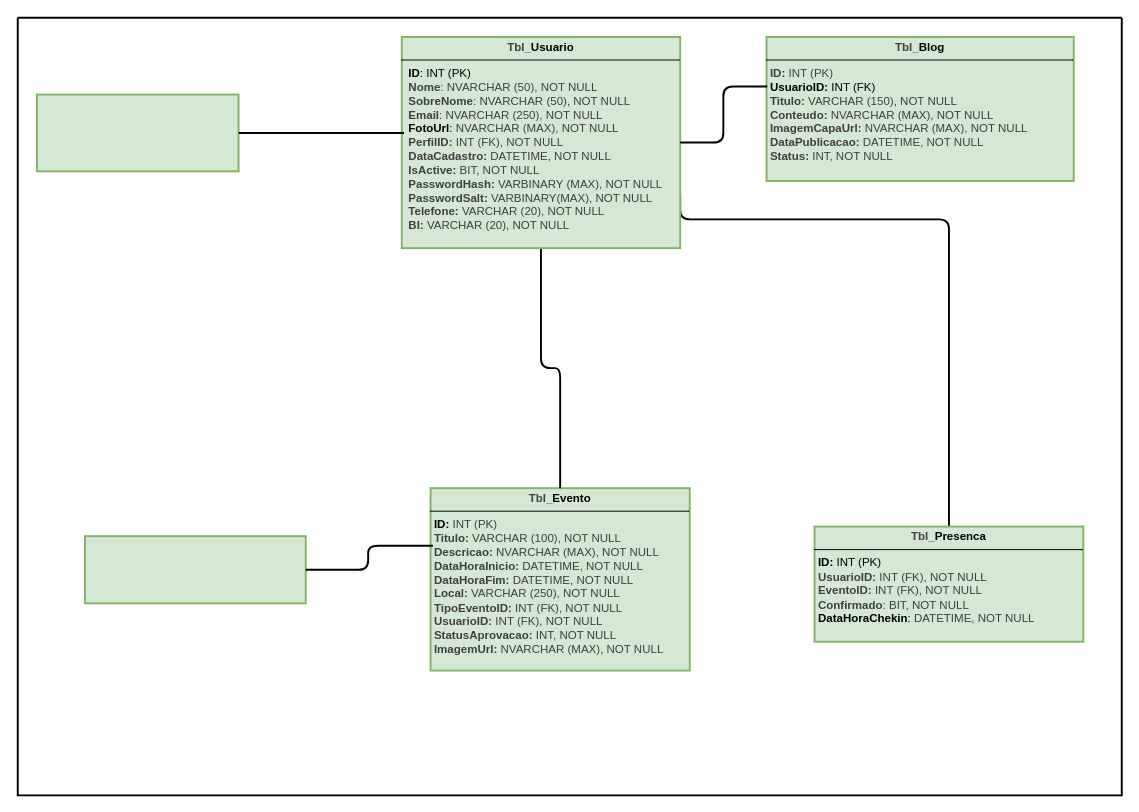
The diagram is 1139 pixels wide and 812 high, and some of its shapes have lost their labels. The shapes that lost their labels are listed below. From the top down, each one's centre as x and y in pixels, then its label:
At [137,132]: "Tbl_Perfil ID : INT (PK) Nome : NVARCHAR (50), NOT NULL".
At [195,569]: "Tbl_ TipoEvento ID: INT, NOT NULL Nome: NVARCHAR (50) NOT NULL".
